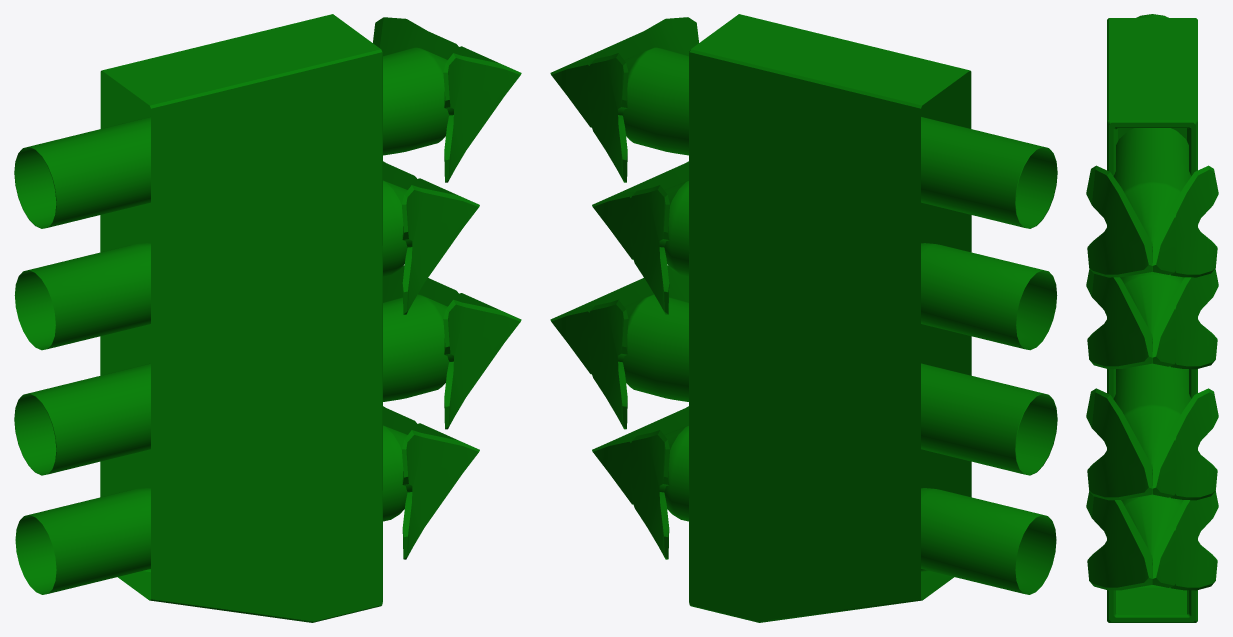
File: Mesh_TrampaEstaca_v001.fbx
3 views of the same model, side by side, from view 1: azimuth 30°, elevation 25°; view 2: azimuth 150°, elevation 25°; view 3: azimuth 270°, elevation 25° (orthographic). The views are drawn at different scales.
Visible parts, largest first — view 1: Mesh_Base_v001, Mesh_Estaca_low_v004, Mesh_Estaca_low_v002, Mesh_Estaca_low_v001, Mesh_Estaca_low_v003; view 2: Mesh_Base_v001, Mesh_Estaca_low_v004, Mesh_Estaca_low_v002, Mesh_Estaca_low_v001, Mesh_Estaca_low_v003; view 3: Mesh_Estaca_low_v004, Mesh_Base_v001, Mesh_Estaca_low_v002, Mesh_Estaca_low_v001, Mesh_Estaca_low_v003.
Part boxes in pixels (x1,y1,x2,y2): Mesh_Base_v001: [100, 14, 382, 622]; Mesh_Estaca_low_v004: [14, 17, 521, 228]; Mesh_Estaca_low_v002: [14, 265, 521, 475]; Mesh_Estaca_low_v001: [14, 161, 479, 350]; Mesh_Estaca_low_v003: [15, 406, 479, 594]; Mesh_Base_v001: [689, 14, 971, 622]; Mesh_Estaca_low_v004: [550, 17, 1057, 228]; Mesh_Estaca_low_v002: [550, 265, 1057, 475]; Mesh_Estaca_low_v001: [592, 161, 1057, 350]; Mesh_Estaca_low_v003: [592, 406, 1056, 594]; Mesh_Estaca_low_v004: [1086, 14, 1218, 277]; Mesh_Base_v001: [1107, 18, 1197, 622]; Mesh_Estaca_low_v002: [1086, 352, 1218, 500]; Mesh_Estaca_low_v001: [1086, 263, 1218, 369]; Mesh_Estaca_low_v003: [1086, 486, 1218, 590].
Size of the model in its own units: 4.14 by 4.53 by 1.08.
